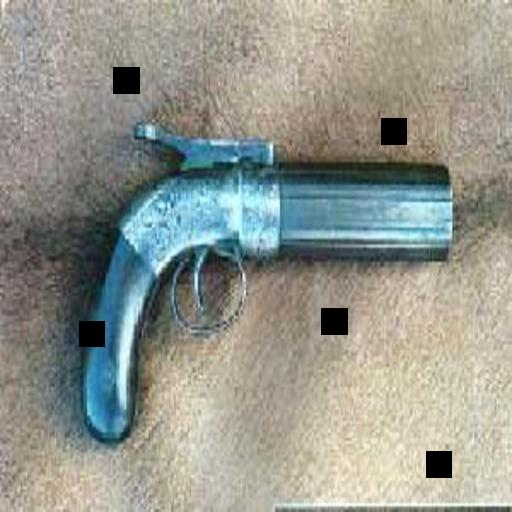Handgun: (77, 112, 456, 431)
